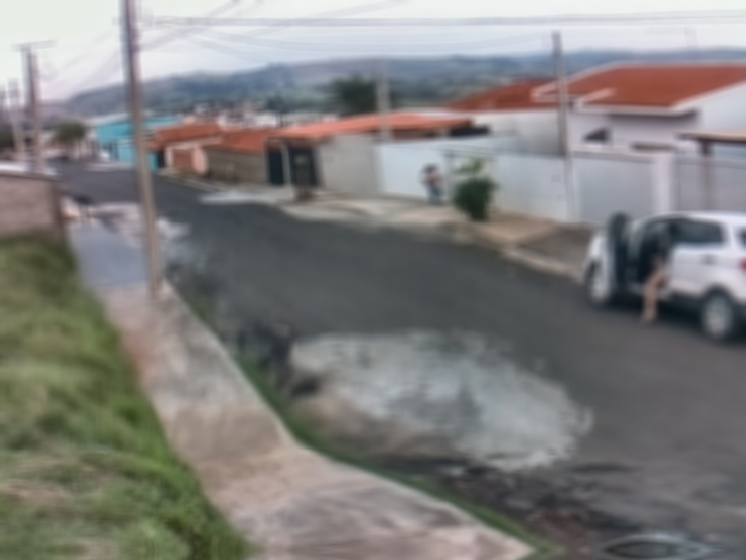person: (636, 223, 686, 322), (421, 163, 450, 207)
